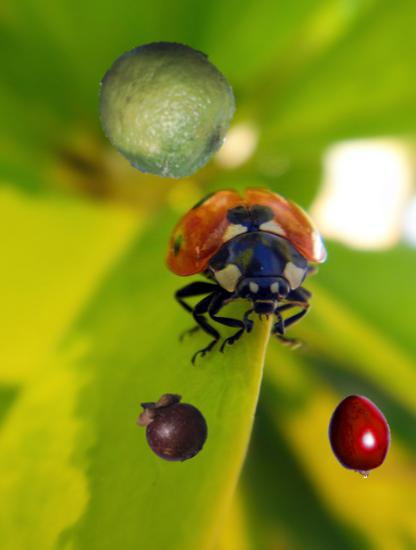Limes: (97, 38, 235, 176)
Mangostan: (136, 389, 211, 464)
Tamarillo: (318, 395, 401, 478)
